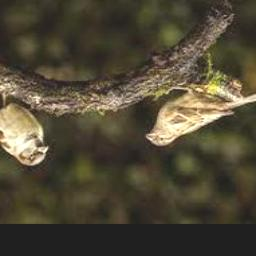Sparrow: (146, 88, 256, 148), (0, 91, 50, 166)
